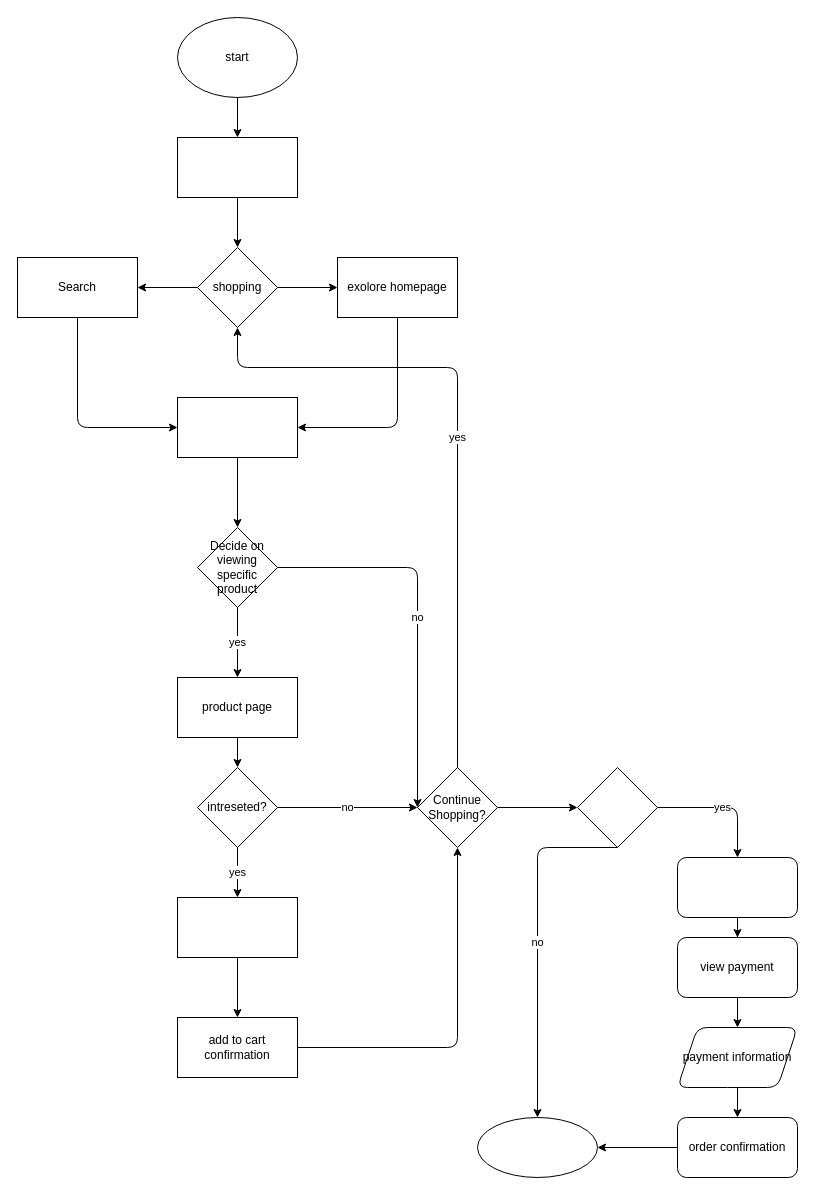
This 815x1195 diagram has some shape labels left out. The box of each missing label's shape, as (x1, y1, x2, y2) in pixels:
add to cart: (176, 896, 298, 958)
checkout?: (576, 766, 658, 848)
Leave: (476, 1116, 598, 1178)
looking over products: (176, 396, 298, 458)
User arrives: (176, 136, 298, 198)
view cart: (676, 856, 798, 918)
